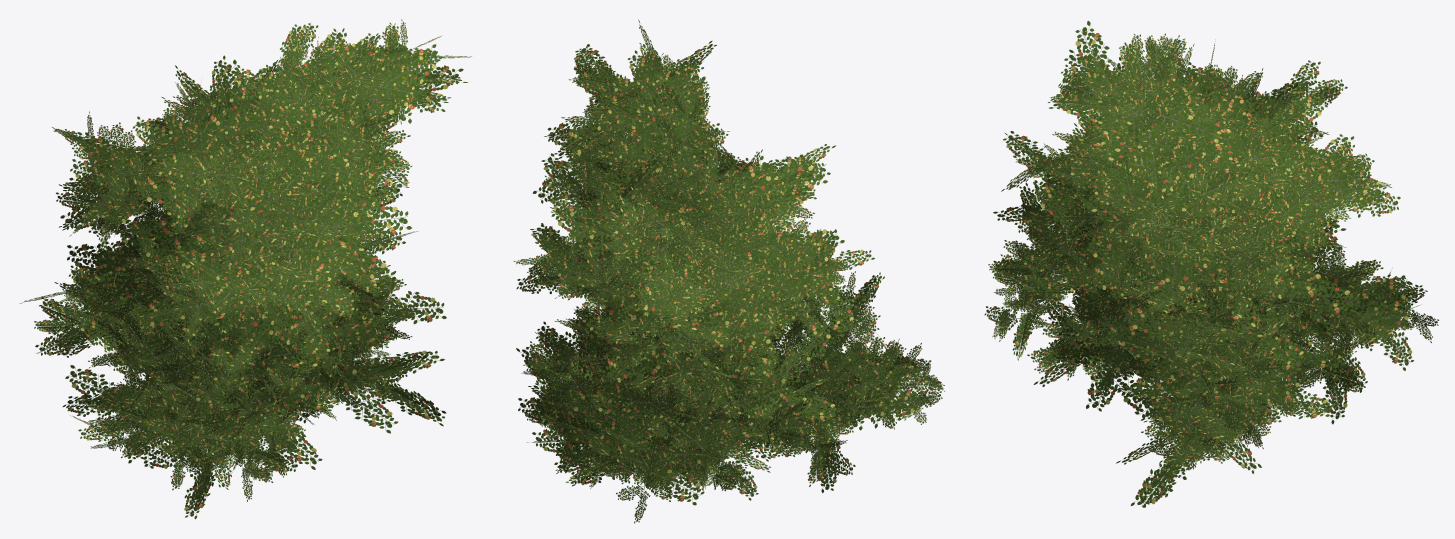
The model's file is apple_leaf.glb.
3 views of the same model, side by side, from view 1: azimuth 30°, elevation 25°; view 2: azimuth 150°, elevation 25°; view 3: azimuth 270°, elevation 25° (orthographic). The views are drawn at different scales.
Parts seen in each view (by area): view 1: apple_c_l2, apple_c_l1, apple_c, apple_a_l2, apple_a_l1, apple_a, apple_b_l2, apple_b, apple_b_l1; view 2: apple_c, apple_c_l2, apple_c_l1, apple_a_l2, apple_a_l1, apple_a, apple_b_l2, apple_b, apple_b_l1; view 3: apple_c_l2, apple_c, apple_c_l1, apple_a_l2, apple_a, apple_a_l1, apple_b_l2, apple_b_l1, apple_b.
Part boxes in pixels (x1,y1,x2,y2): apple_c_l2: [20, 28, 471, 472]; apple_c_l1: [34, 22, 442, 482]; apple_c: [37, 19, 441, 501]; apple_a_l2: [89, 55, 446, 444]; apple_a_l1: [128, 77, 422, 412]; apple_a: [126, 81, 409, 406]; apple_b_l2: [107, 178, 375, 519]; apple_b: [117, 180, 363, 491]; apple_b_l1: [110, 192, 373, 482]; apple_c: [513, 45, 944, 523]; apple_c_l2: [516, 20, 926, 505]; apple_c_l1: [521, 42, 942, 495]; apple_a_l2: [526, 144, 874, 473]; apple_a_l1: [527, 145, 868, 476]; apple_a: [542, 165, 858, 453]; apple_b_l2: [518, 194, 844, 493]; apple_b: [568, 268, 840, 485]; apple_b_l1: [557, 264, 853, 473]; apple_c_l2: [1001, 21, 1427, 450]; apple_c: [988, 35, 1439, 448]; apple_c_l1: [984, 33, 1415, 446]; apple_a_l2: [993, 49, 1363, 507]; apple_a: [1026, 48, 1328, 477]; apple_a_l1: [1014, 63, 1335, 489]; apple_b_l2: [1045, 156, 1306, 418]; apple_b_l1: [1027, 143, 1314, 407]; apple_b: [1037, 188, 1311, 408].
Bounding box in the file's own units: 9.2 × 9.65 × 8.92.
Materials: 1 (1 with a texture image).
